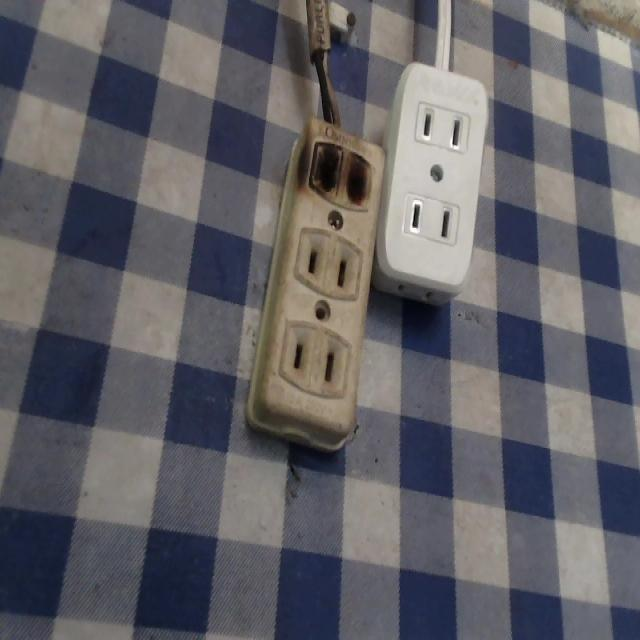-: (302, 136, 379, 217)
